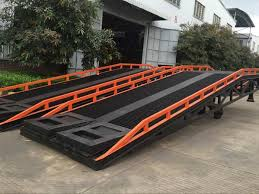Yard Ramp: (1, 62, 259, 172)
